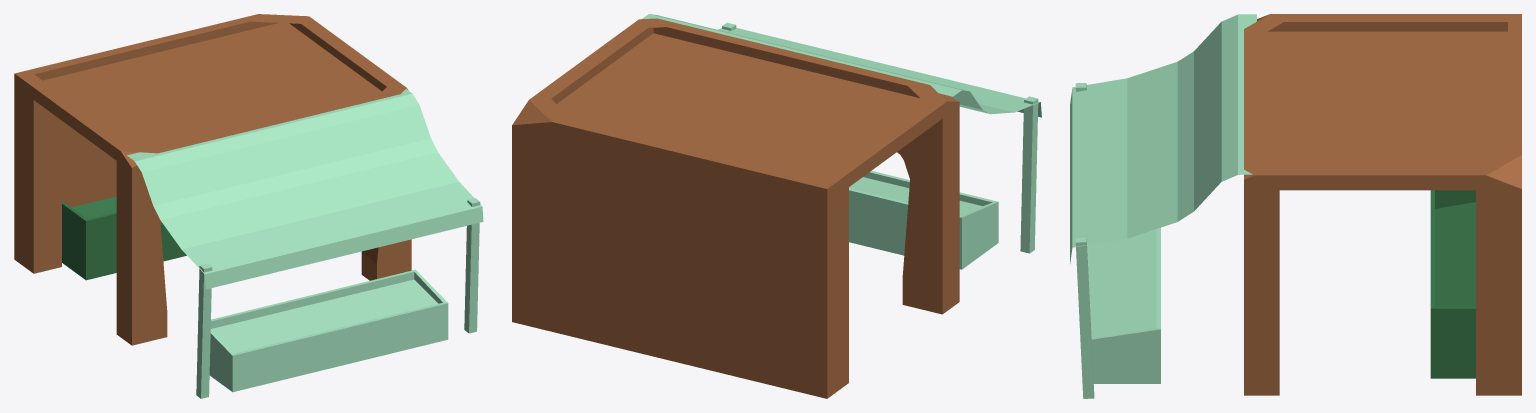
Rendered from markethouse.fbx.
The picture shows the model from 3 angles, left to right: view 1: azimuth 30°, elevation 25°; view 2: azimuth 150°, elevation 25°; view 3: azimuth 270°, elevation 25°; orthographic projection. The views are drawn at different scales.
Visible parts, largest first — view 1: marketstand, sheet.001, boxx, biggerbox, poles.001; view 2: marketstand, boxx, sheet.001, poles.001; view 3: marketstand, sheet.001, boxx, biggerbox, poles.001.
Boxes of the visible parts, x1,y1,x2,y2 form: marketstand: (14,14,411,345); sheet.001: (127,89,483,289); boxx: (209,269,448,392); biggerbox: (62,196,186,280); poles.001: (196,198,480,398); marketstand: (512,18,959,398); boxx: (849,171,998,269); sheet.001: (642,14,1041,117); poles.001: (722,22,1038,253); marketstand: (1244,14,1521,395); sheet.001: (1070,14,1256,263); boxx: (1087,227,1160,383); biggerbox: (1430,190,1475,378); poles.001: (1075,83,1094,398).
Size of the model in its own units: 989 by 647 by 1170.
